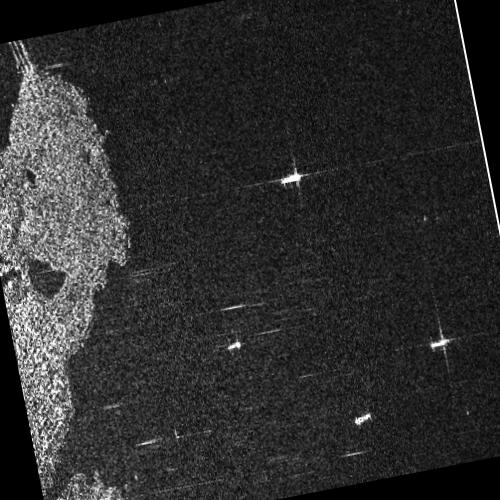ship: (281, 172, 302, 185), (429, 337, 450, 349), (354, 412, 372, 426), (227, 340, 242, 352)
